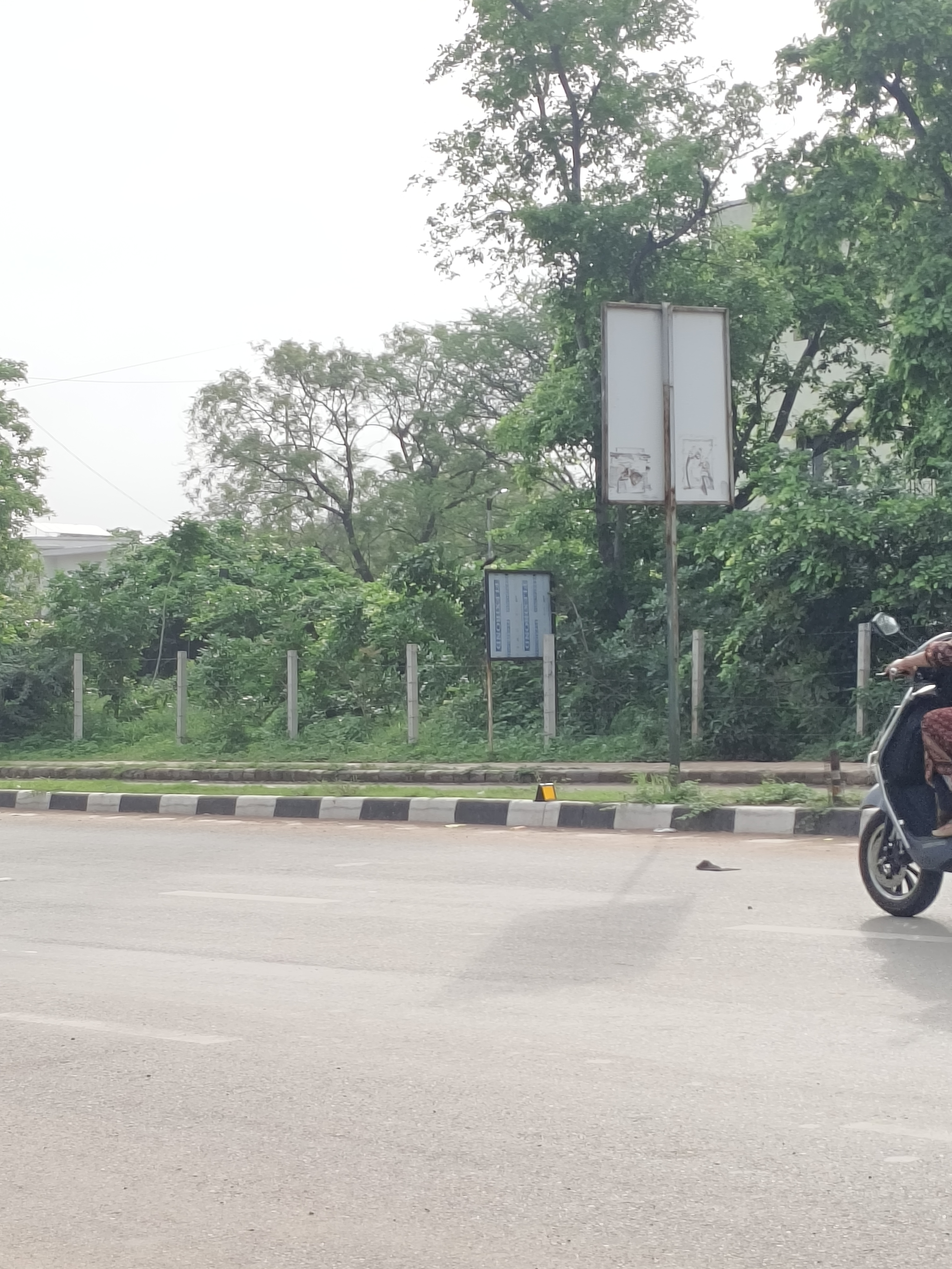BikeWithRider: (845, 595, 952, 927)
